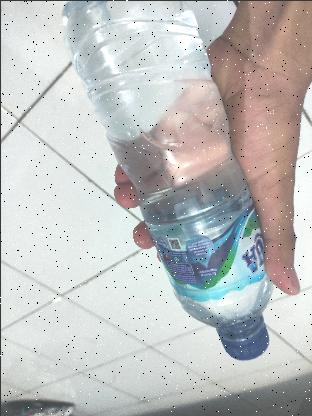Plastic Bottle: (58, 0, 274, 364)
